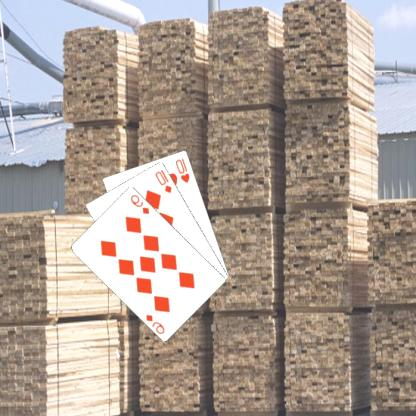10D: (154, 166, 176, 194)
10H: (175, 155, 193, 184)
9D: (145, 311, 168, 335), (130, 191, 152, 215)
